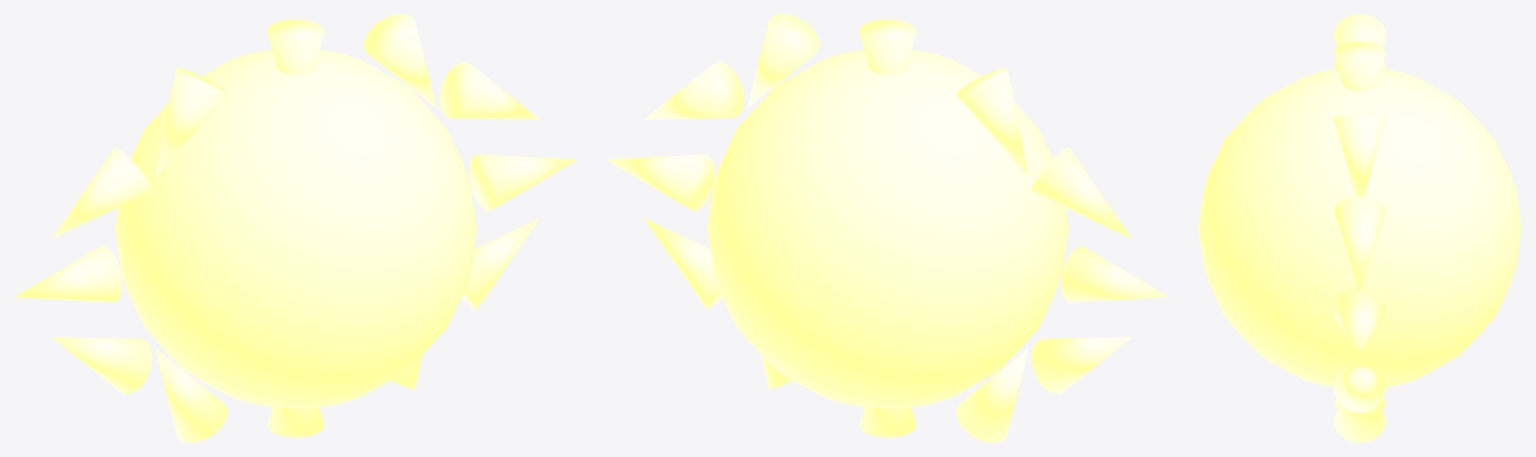
File: sun.glb
3 renders of one model, left to right at view 1: azimuth 30°, elevation 25°; view 2: azimuth 150°, elevation 25°; view 3: azimuth 270°, elevation 25°, orthographic. The views are drawn at different scales.
Visible parts, largest first — view 1: sun_core, sun_ray0, sun_ray6, sun_ray4, sun_ray10, sun_ray5, sun_ray11, sun_ray7, sun_ray8, sun_ray1, sun_ray9, sun_ray3; view 2: sun_core, sun_ray0, sun_ray6, sun_ray4, sun_ray10, sun_ray5, sun_ray11, sun_ray7, sun_ray8, sun_ray1, sun_ray9, sun_ray3; view 3: sun_core, sun_ray11, sun_ray10, sun_ray0, sun_ray1, sun_ray9, sun_ray2, sun_ray8.
Boxes of the visible parts, x1,y1,x2,y2 form: sun_core: [115, 50, 476, 408]; sun_ray0: [469, 154, 577, 210]; sun_ray6: [14, 246, 122, 302]; sun_ray4: [155, 348, 227, 442]; sun_ray10: [364, 14, 436, 108]; sun_ray5: [52, 337, 152, 394]; sun_ray11: [439, 62, 539, 119]; sun_ray7: [52, 147, 152, 238]; sun_ray8: [155, 68, 227, 177]; sun_ray1: [461, 218, 539, 309]; sun_ray9: [267, 19, 324, 74]; sun_ray3: [267, 407, 324, 437]; sun_core: [707, 50, 1068, 408]; sun_ray0: [606, 154, 714, 210]; sun_ray6: [1061, 246, 1169, 302]; sun_ray4: [956, 348, 1028, 442]; sun_ray10: [747, 14, 819, 108]; sun_ray5: [1031, 337, 1131, 394]; sun_ray11: [644, 62, 744, 119]; sun_ray7: [1031, 147, 1131, 238]; sun_ray8: [956, 68, 1028, 177]; sun_ray1: [644, 218, 722, 309]; sun_ray9: [859, 19, 916, 74]; sun_ray3: [859, 407, 916, 437]; sun_core: [1198, 68, 1521, 387]; sun_ray11: [1334, 196, 1385, 290]; sun_ray10: [1334, 115, 1385, 196]; sun_ray0: [1334, 287, 1385, 350]; sun_ray1: [1334, 361, 1385, 412]; sun_ray9: [1334, 41, 1385, 90]; sun_ray2: [1334, 405, 1385, 442]; sun_ray8: [1334, 14, 1385, 46].
Bounding box in the file's own units: 0.18 × 0.12 × 0.1.
